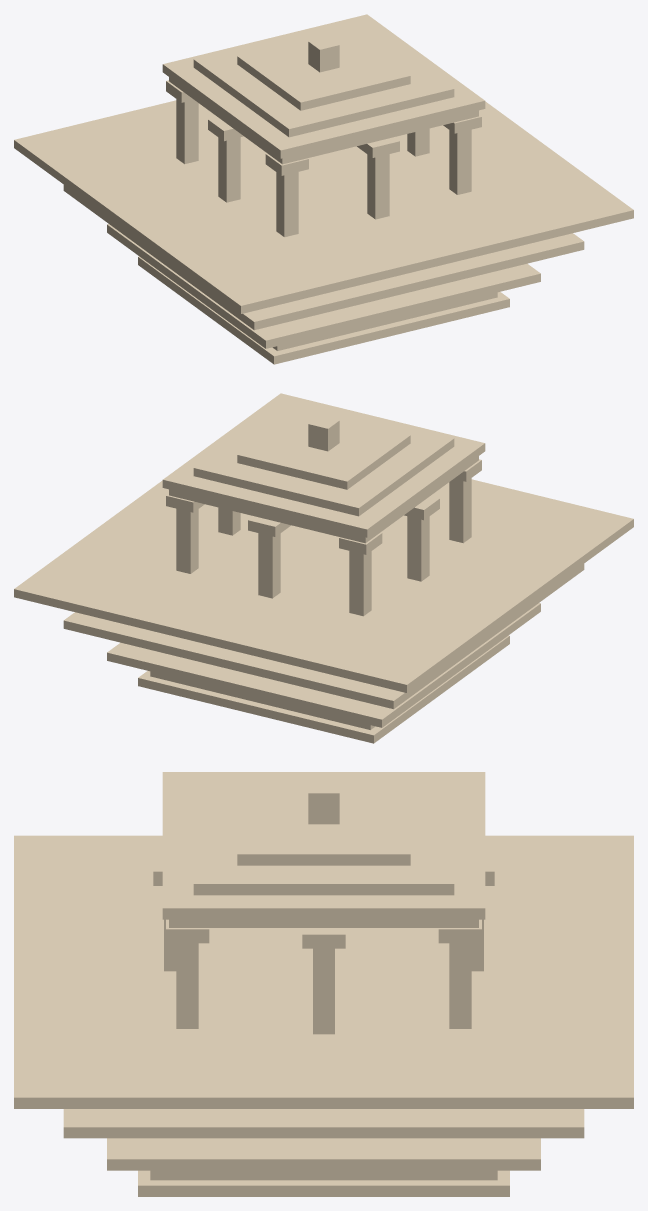
File: stepwell_pavilion.opt.glb
3 renders of one model, top to bottom at view 1: azimuth 30°, elevation 25°; view 2: azimuth 150°, elevation 25°; view 3: azimuth 270°, elevation 25°, orthographic. The views are drawn at different scales.
Parts seen in each view (by area): view 1: Stepwell_Structure; view 2: Stepwell_Structure; view 3: Stepwell_Structure.
Part boxes in pixels (x1,y1,x2,y2): Stepwell_Structure: (14,14,633,364); Stepwell_Structure: (14,393,633,743); Stepwell_Structure: (14,772,633,1196).
Bounding box in the file's own units: 10 × 5.9 × 10.
